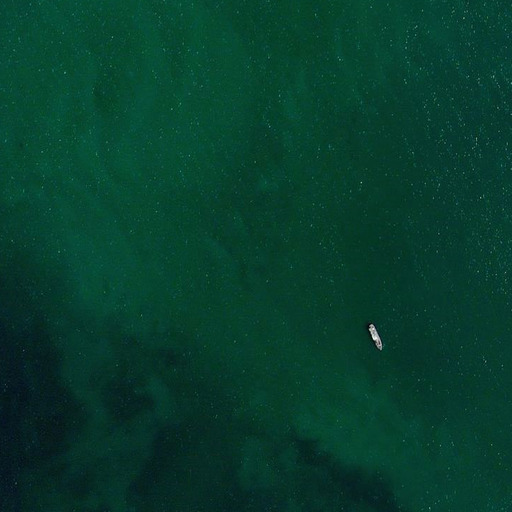ship: (365, 321, 387, 354)
